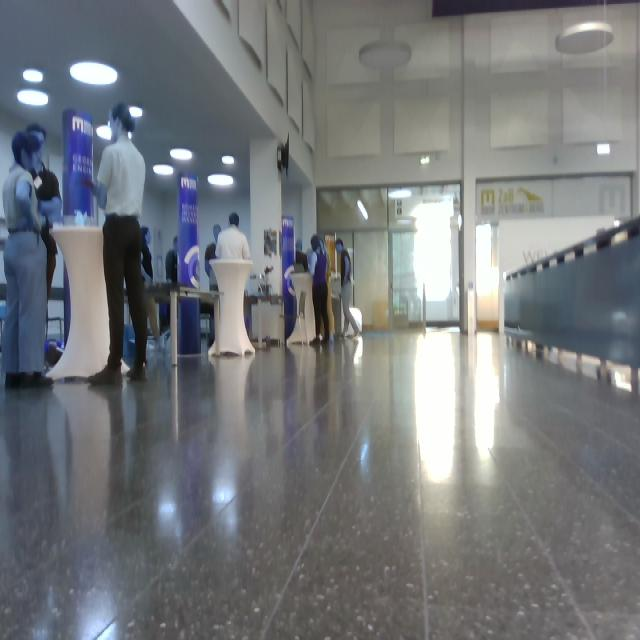door: (388, 183, 461, 331)
light bulb: (556, 20, 614, 56), (359, 40, 412, 70), (70, 61, 118, 86), (96, 124, 132, 141), (17, 89, 49, 106), (208, 173, 234, 186), (23, 68, 44, 84), (170, 148, 193, 161), (96, 125, 113, 141), (389, 189, 412, 200), (153, 164, 174, 176), (357, 200, 369, 220), (129, 105, 143, 118), (222, 156, 235, 165)
person: (81, 102, 149, 385), (2, 130, 55, 389), (215, 213, 252, 338), (335, 239, 362, 339), (308, 234, 331, 345)
staircase: (502, 214, 640, 396)
tiled floor: (1, 325, 639, 638)
